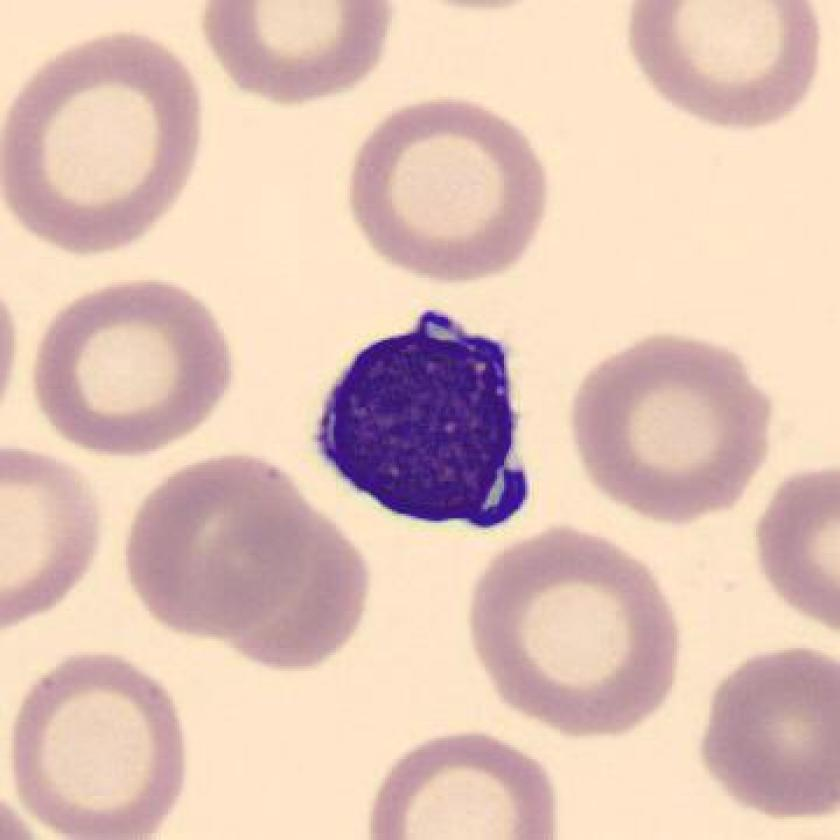lymphocyte: (295, 295, 552, 556)
